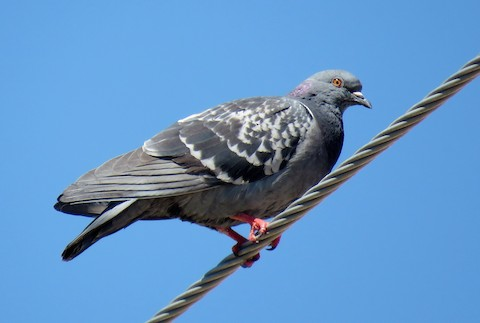pigeon: (52, 62, 379, 282)
